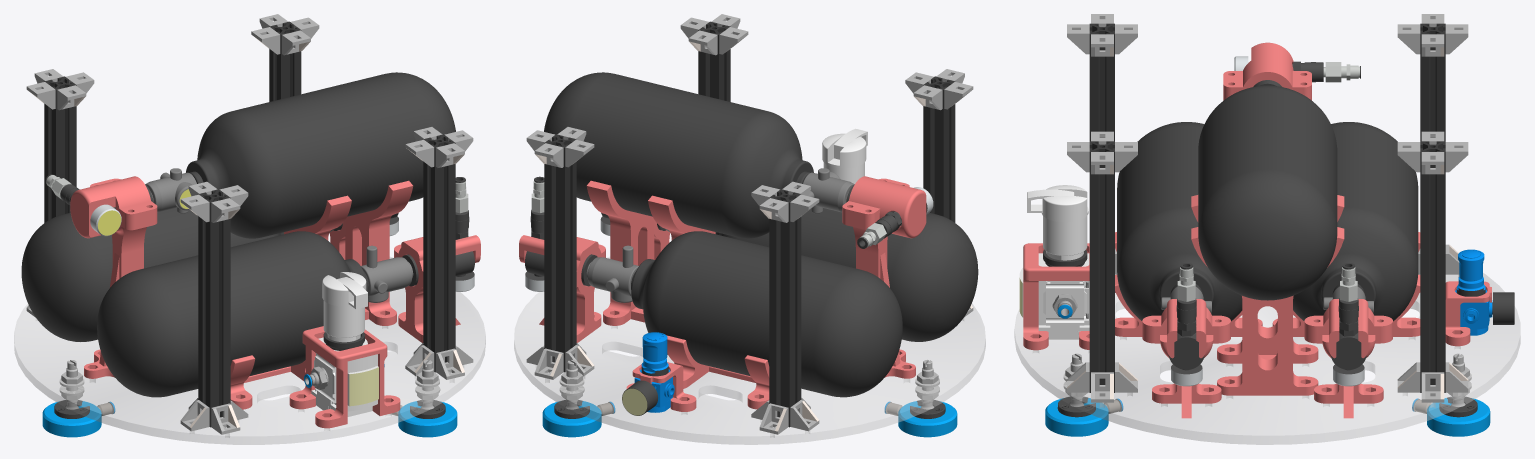
3 renders of one model, left to right at view 1: azimuth 30°, elevation 25°; view 2: azimuth 150°, elevation 25°; view 3: azimuth 270°, elevation 25°, orthographic. The views are drawn at different scales.
Parts seen in each view (by area): view 1: 4500psi1_5Lbottle-1 - Part, 4500psi1_5Lbottle-1 3 - Part, alpha3_bottom_plate-1 - Part_clonedChild, alpha3_bottom_plate-1 - Part, 4500psi1_5Lbottle-1 2 - Part, RS_850-8476_210mm-1 4 - Part, RS_850-8476_210mm-1 2 - Part, alpha3_bottle_mount_hori_top-1 - Part, 527690 MS4-LR-1_4-D7-AS-1 - Part, alpha3_regulator_actuator_mounting-1 - Part, RS_850-8476_210mm-1 3 - Part, alpha3_bottle_conncet_bot_mid-1 - Part (+24 smaller); view 2: 4500psi1_5Lbottle-1 - Part, 4500psi1_5Lbottle-1 2 - Part, alpha3_bottom_plate-1 - Part_clonedChild, alpha3_bottom_plate-1 - Part, 4500psi1_5Lbottle-1 3 - Part, RS_850-8476_210mm-1 - Part, RS_850-8476_210mm-1 3 - Part, alpha3_bottle_mount_hori_top-1 - Part, RS_850-8476_210mm-1 4 - Part, alpha3_bottle_conncet_top_mid-1 - Part, alpha3_bottle_conncet_bot_mid-1 - Part, alpha3_bottle_mount_hori-2 - Part (+25 smaller); view 3: 4500psi1_5Lbottle-1 - Part, alpha3_bottom_plate-1 - Part_clonedChild, alpha3_bottom_plate-1 - Part, 4500psi1_5Lbottle-1 2 - Part, 4500psi1_5Lbottle-1 3 - Part, alpha3_bottle_mount_hori_top-1 - Part, 527690 MS4-LR-1_4-D7-AS-1 - Part, RS_850-8476_210mm-1 - Part, RS_850-8476_210mm-1 2 - Part, alpha3_regulator_actuator_mounting-1 - Part, alpha3_bottle_conncet_top_mid-1 - Part, RS_850-8476_210mm-1 3 - Part (+32 smaller).
Part boxes in pixels (<box>): 4500psi1_5Lbottle-1 - Part: <box>186,72,455,238</box>; 4500psi1_5Lbottle-1 3 - Part: <box>97,231,368,397</box>; alpha3_bottom_plate-1 - Part_clonedChild: <box>14,257,485,444</box>; alpha3_bottom_plate-1 - Part: <box>14,257,485,444</box>; 4500psi1_5Lbottle-1 2 - Part: <box>21,208,283,341</box>; RS_850-8476_210mm-1 4 - Part: <box>198,189,230,427</box>; RS_850-8476_210mm-1 2 - Part: <box>423,134,455,372</box>; alpha3_bottle_mount_hori_top-1 - Part: <box>284,180,413,325</box>; 527690 MS4-LR-1_4-D7-AS-1 - Part: <box>311,272,378,416</box>; alpha3_regulator_actuator_mounting-1 - Part: <box>289,326,400,428</box>; RS_850-8476_210mm-1 3 - Part: <box>44,76,76,222</box>; alpha3_bottle_conncet_bot_mid-1 - Part: <box>70,207,157,378</box>; 4500psi1_5Lbottle-1 - Part: <box>544,72,813,238</box>; 4500psi1_5Lbottle-1 2 - Part: <box>631,231,902,397</box>; alpha3_bottom_plate-1 - Part_clonedChild: <box>514,257,985,444</box>; alpha3_bottom_plate-1 - Part: <box>514,257,985,444</box>; 4500psi1_5Lbottle-1 3 - Part: <box>715,208,978,341</box>; RS_850-8476_210mm-1 - Part: <box>544,134,576,372</box>; RS_850-8476_210mm-1 3 - Part: <box>769,189,801,427</box>; alpha3_bottle_mount_hori_top-1 - Part: <box>586,180,715,325</box>; RS_850-8476_210mm-1 4 - Part: <box>923,76,955,222</box>; alpha3_bottle_conncet_top_mid-1 - Part: <box>842,176,926,223</box>; alpha3_bottle_conncet_bot_mid-1 - Part: <box>842,209,926,378</box>; alpha3_bottle_mount_hori-2 - Part: <box>666,335,769,409</box>; 4500psi1_5Lbottle-1 - Part: <box>1198,85,1337,300</box>; alpha3_bottom_plate-1 - Part_clonedChild: <box>1014,273,1520,444</box>; alpha3_bottom_plate-1 - Part: <box>1015,273,1519,444</box>; 4500psi1_5Lbottle-1 2 - Part: <box>1293,122,1418,321</box>; 4500psi1_5Lbottle-1 3 - Part: <box>1117,122,1242,321</box>; alpha3_bottle_mount_hori_top-1 - Part: <box>1191,195,1344,395</box>; 527690 MS4-LR-1_4-D7-AS-1 - Part: <box>1019,185,1089,339</box>; RS_850-8476_210mm-1 - Part: <box>1420,141,1445,392</box>; RS_850-8476_210mm-1 2 - Part: <box>1089,141,1114,392</box>; alpha3_regulator_actuator_mounting-1 - Part: <box>1023,243,1089,350</box>; alpha3_bottle_conncet_top_mid-1 - Part: <box>1223,42,1311,95</box>; RS_850-8476_210mm-1 3 - Part: <box>1420,23,1445,141</box>.
Size of the model in its own units: 0.3998 by 0.2526 by 0.3997.
